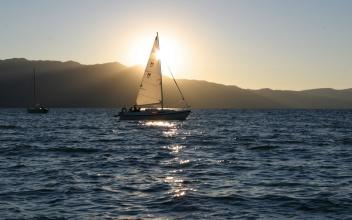fanchuan: (112, 24, 197, 122)
